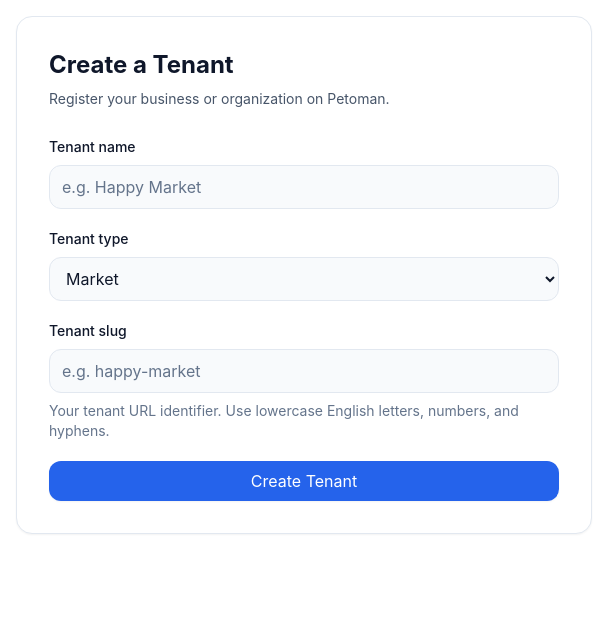
Test case: CreateTenantPage › displays an error when the user account is inactive
The image size is (609, 617).
Type "Happy Market" into the field labelled "Tenant name" at (304, 187), box left=49, top=165, right=559, bottom=209
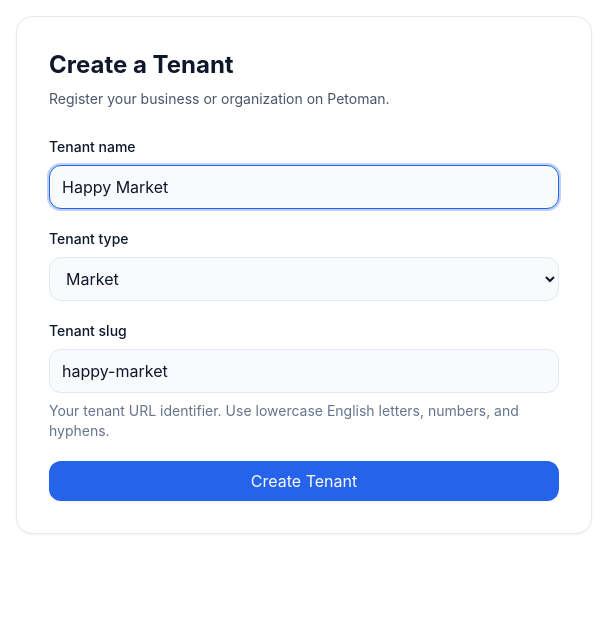
Click the button "Create Tenant" at (304, 481), box left=49, top=461, right=559, bottom=501
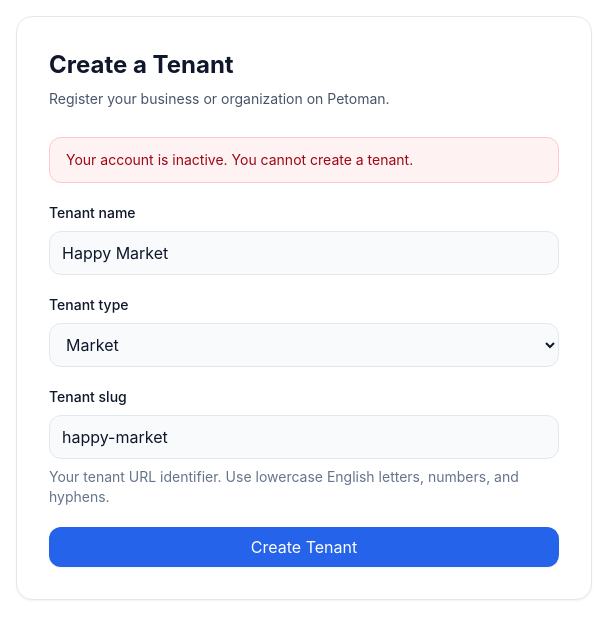
Result: the text "Your account is inactive. You cannot create a tenant." is shown at left=66, top=151, right=413, bottom=168
